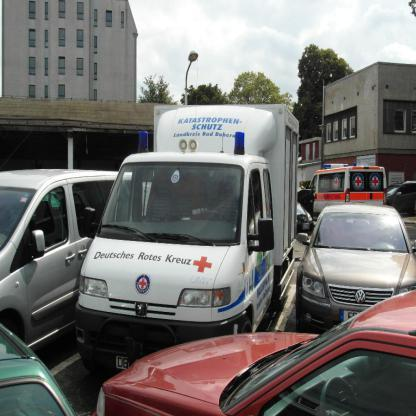Ambulance - v1 Ambulance last generate: (69, 100, 296, 374), (305, 161, 389, 215)
